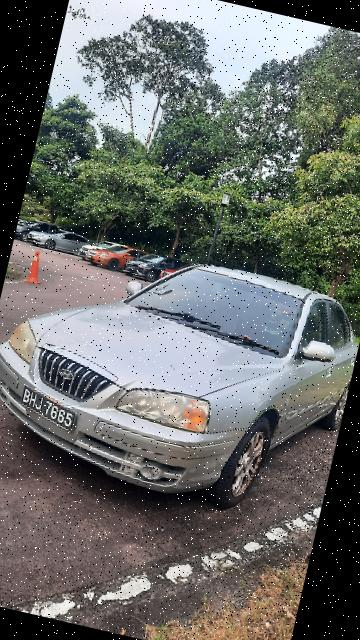License_Plate: (17, 388, 82, 436)
car: (1, 218, 360, 534)
